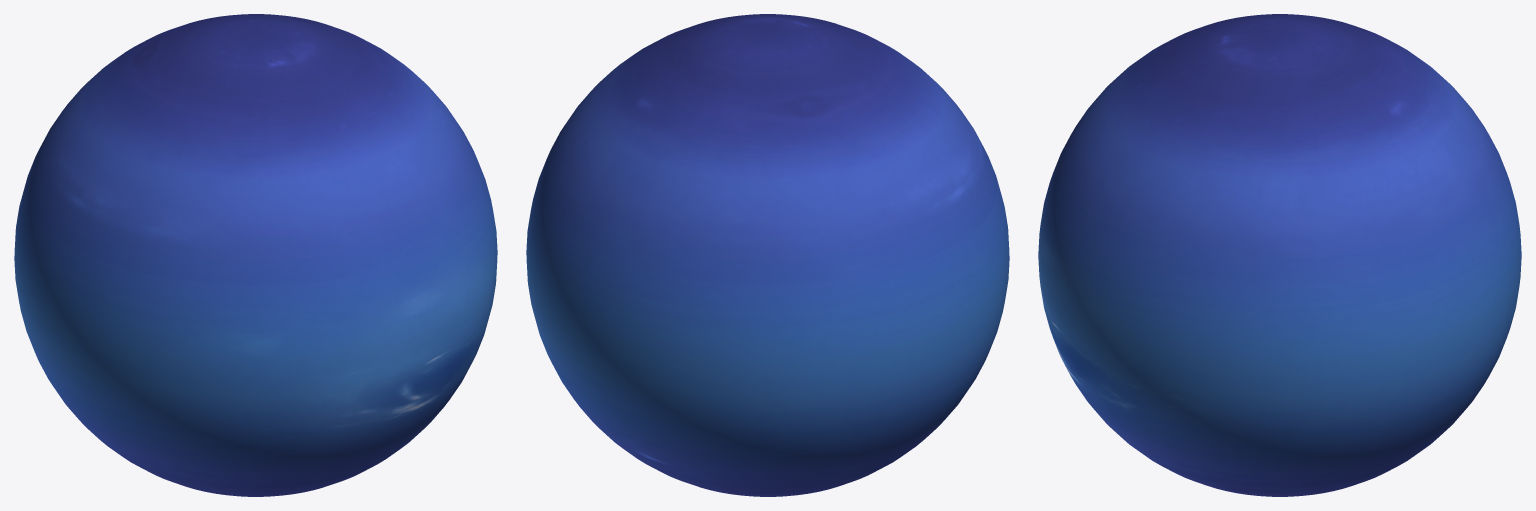
File: neptune.glb
The picture shows the model from 3 angles, left to right: view 1: azimuth 30°, elevation 25°; view 2: azimuth 150°, elevation 25°; view 3: azimuth 270°, elevation 25°; orthographic projection.
Parts seen in each view (by area): view 1: neptune; view 2: neptune; view 3: neptune.
Boxes of the visible parts, x1,y1,x2,y2 form: neptune: (14, 14, 497, 496); neptune: (526, 14, 1009, 496); neptune: (1038, 14, 1521, 496).
Bounding box in the file's own units: 15.16 × 15.16 × 15.16.
Materials: 1 (1 with a texture image).
